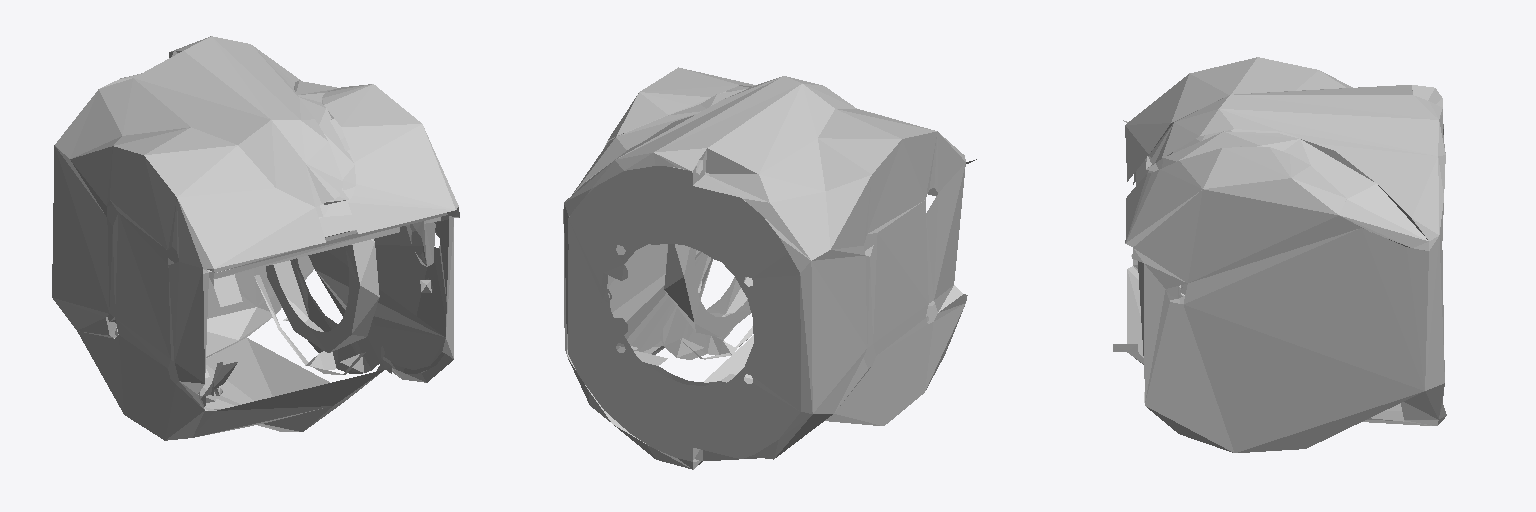
3 renders of one model, left to right at view 1: azimuth 30°, elevation 25°; view 2: azimuth 150°, elevation 25°; view 3: azimuth 270°, elevation 25°, orthographic.
Parts seen in each view (by area): view 1: link5_2; view 2: link5_2; view 3: link5_2.
Part boxes in pixels (bbox=[...]): link5_2: bbox=[52, 36, 459, 440]; link5_2: bbox=[563, 67, 976, 469]; link5_2: bbox=[1113, 57, 1446, 452].
Size of the model in its own units: 66.15 by 76.16 by 72.91.